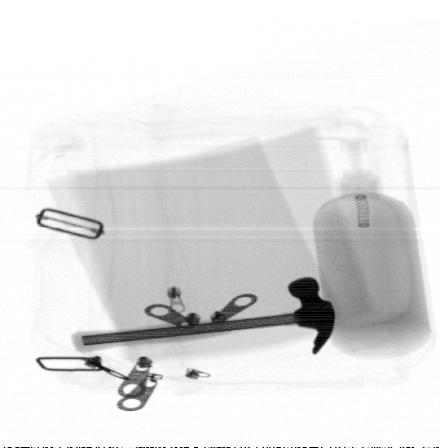Hammer: (73, 276, 338, 357)
